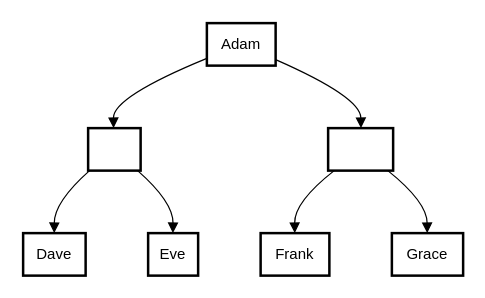
The diagram is 485 pixels wide and 298 high, and some of its shapes have lost their labels. Here are the shapes that lost their labels. From the top down, the box of each, then its label:
(86, 126, 141, 171): Bob
(326, 126, 394, 171): Carol
